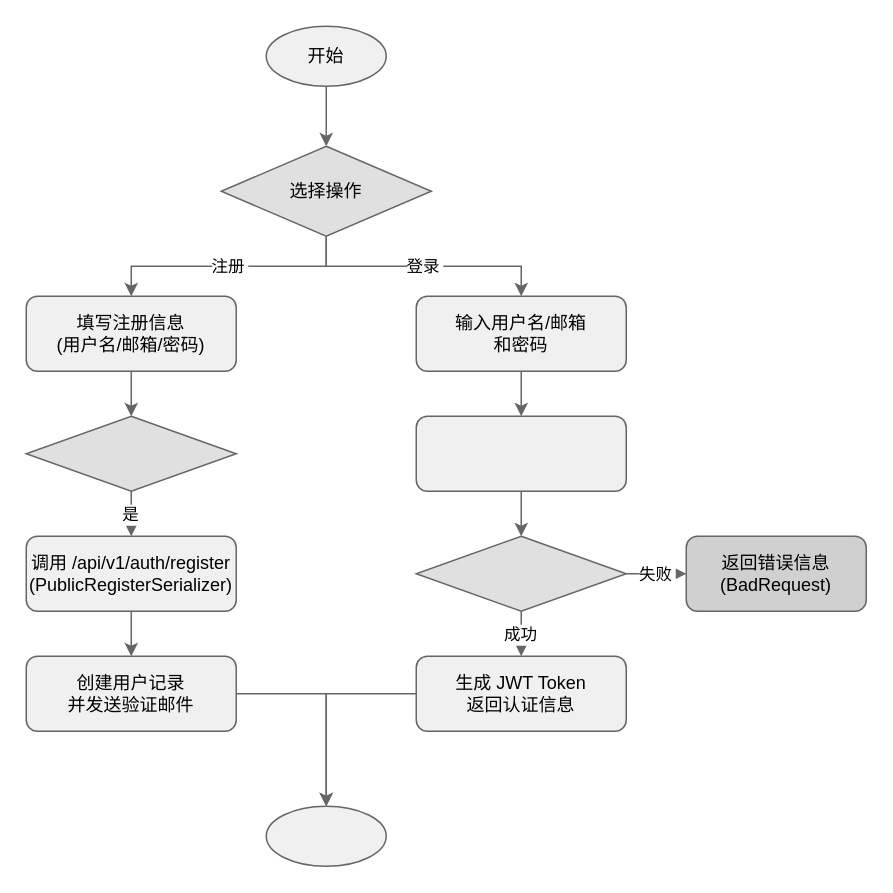
Some shapes in this 893 by 893 pixel diagram are drawn without their labels. The shapes that lost their labels are listed below. From the top down, each one's box as (x1, y1, x2, y2) in pixels, then its label:
(25, 415, 236, 491): 接受服务条款
(415, 415, 626, 491): 调用 /api/v1/auth (TokenObtainPairSerializer)
(415, 535, 626, 611): 验证凭据
(265, 805, 386, 866): 进入系统
